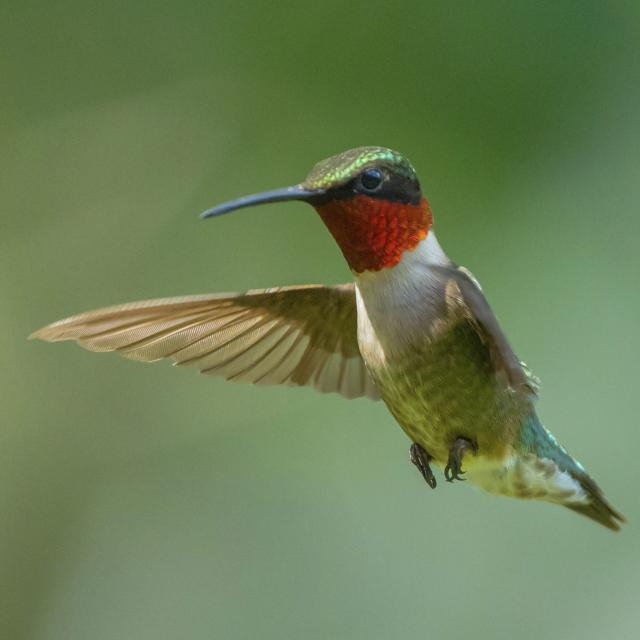Humming Bird: (55, 144, 619, 526)
